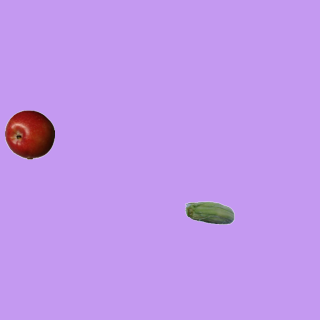Apple Braeburn: (4, 109, 54, 159)
Corn Husk: (184, 189, 234, 239)
